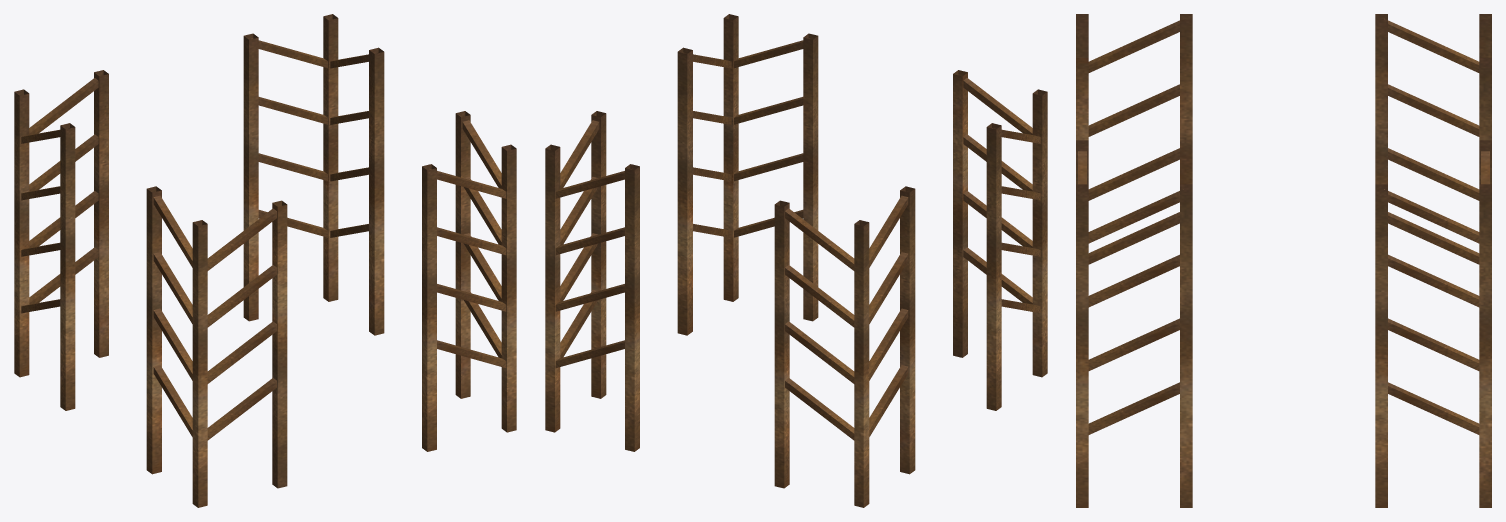
The model's file is TransportBottom.obj.
3 views of the same model, side by side, from view 1: azimuth 30°, elevation 25°; view 2: azimuth 150°, elevation 25°; view 3: azimuth 270°, elevation 25° (orthographic). The views are drawn at different scales.
Visible parts, largest first — view 1: TransportBottom; view 2: TransportBottom; view 3: TransportBottom.
Boxes of the visible parts, <box> form: TransportBottom: <box>14,14,516,507</box>; TransportBottom: <box>545,14,1047,507</box>; TransportBottom: <box>1076,14,1491,507</box>.
Bounding box in the file's own units: 4.98 × 4.21 × 4.98.
Materials: 1 (1 with a texture image).
